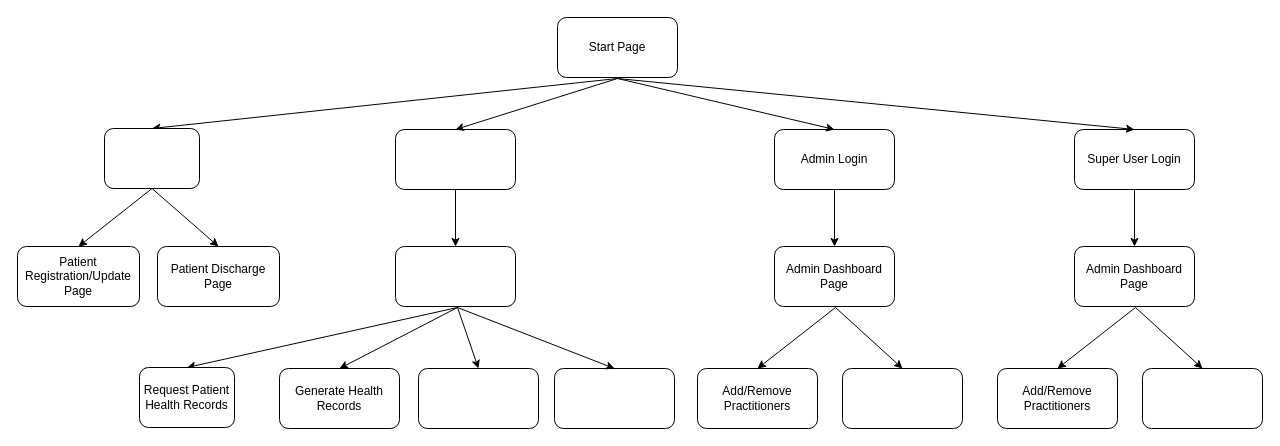
Image size: 1280x446. Some labels were removed from this diagram. The centre of each missing label's shape, as x and y in pixels:
"Practitioner Home/Dashboard Page" belongs at (455,276).
"Practitioner Login" belongs at (455,159).
"Staff Login" belongs at (152,158).
